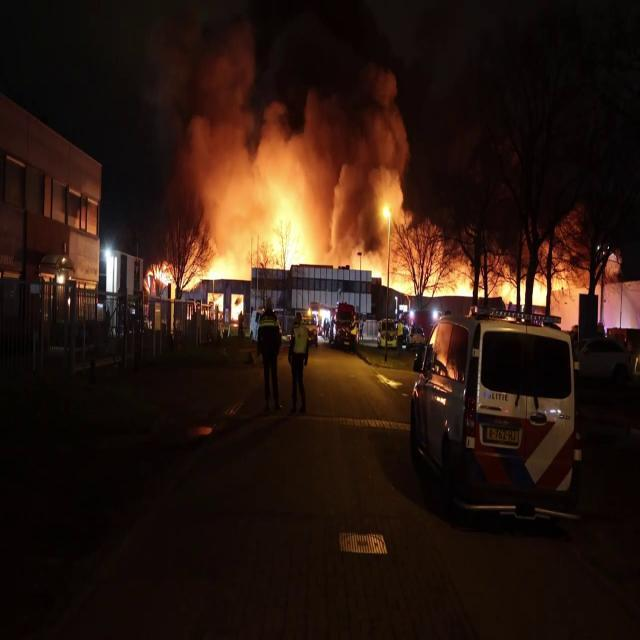Fire: (400, 250, 584, 318), (265, 188, 315, 274), (198, 241, 246, 323)
Smoke: (176, 11, 412, 236)
